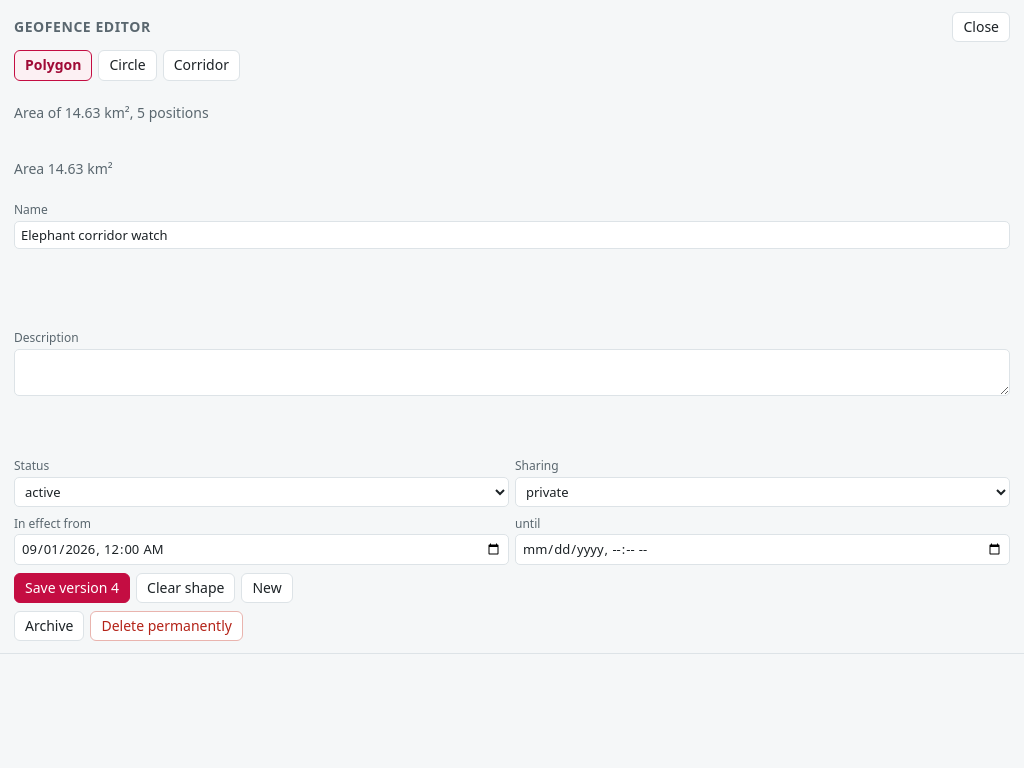
Test case: GeofenceEditor › shows what the service said when the geofence has moved on
The image size is (1024, 768).
Click the button "Save version 4": (72, 588) [14, 573, 130, 603]
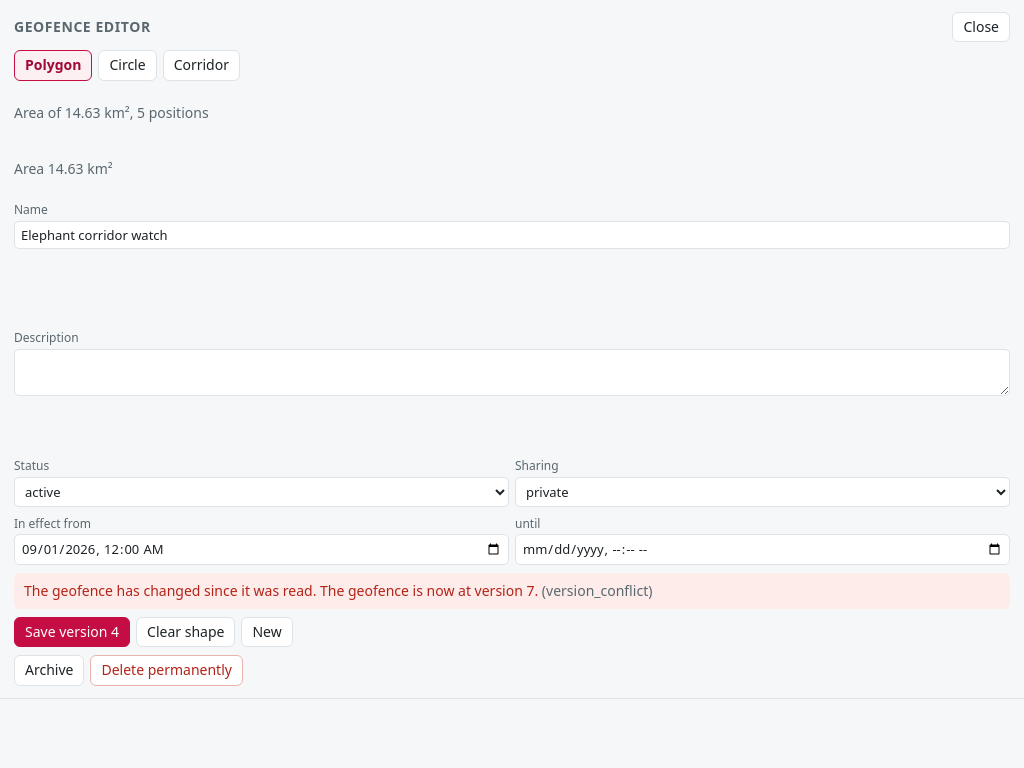
Check: the message shows "The geofence has changed since it was read.", box [24, 581, 538, 600]
Check: the message shows "now at version 7", box [24, 581, 538, 600]
Check: the message shows "version_conflict", box [546, 581, 648, 600]
